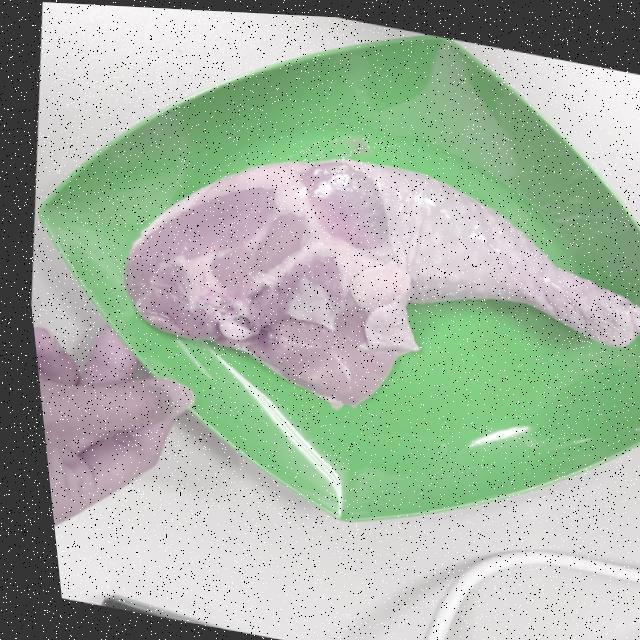quater: (124, 154, 640, 388)
